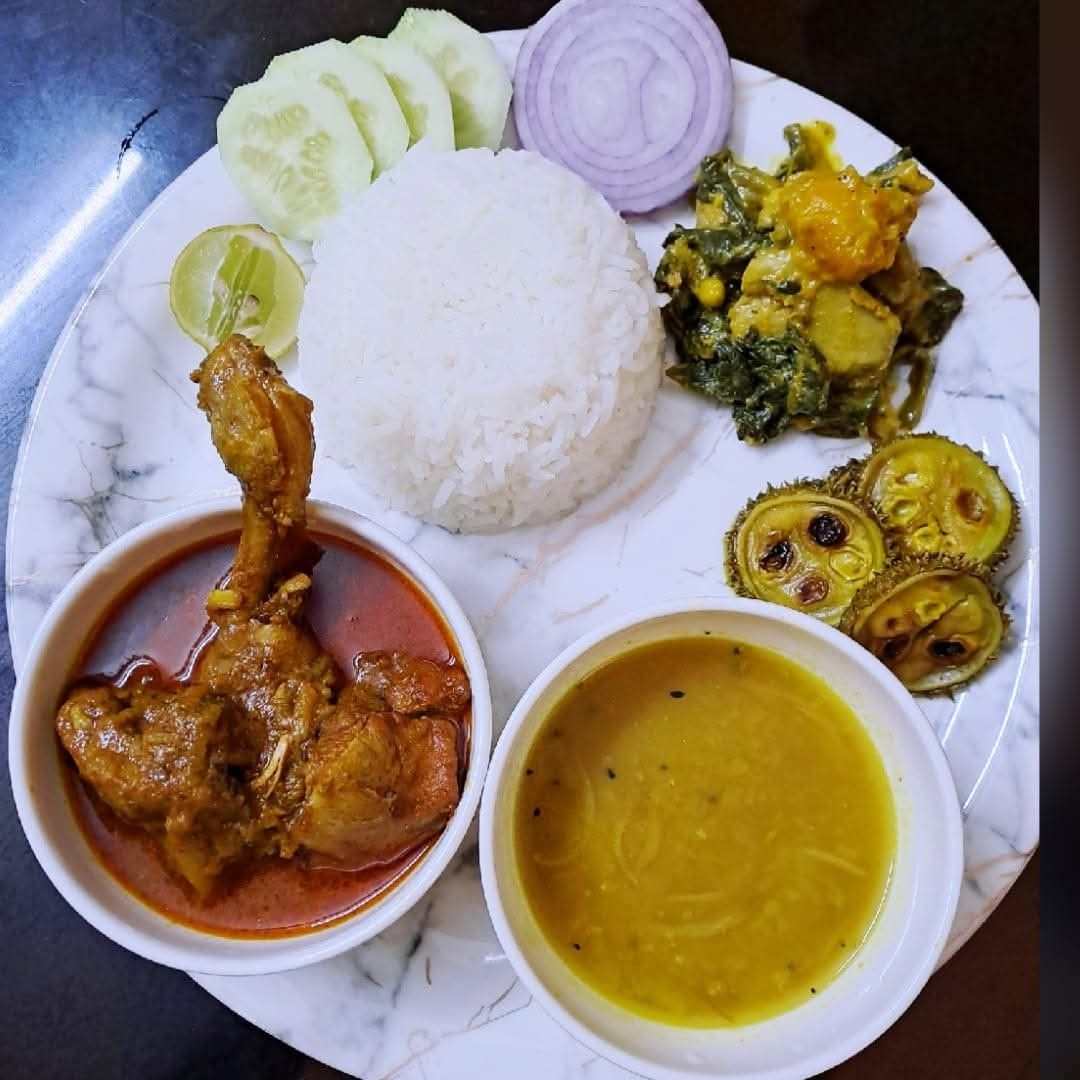bhat: (296, 141, 651, 526)
dal: (514, 645, 893, 1026)
sabji: (659, 133, 1026, 693)
